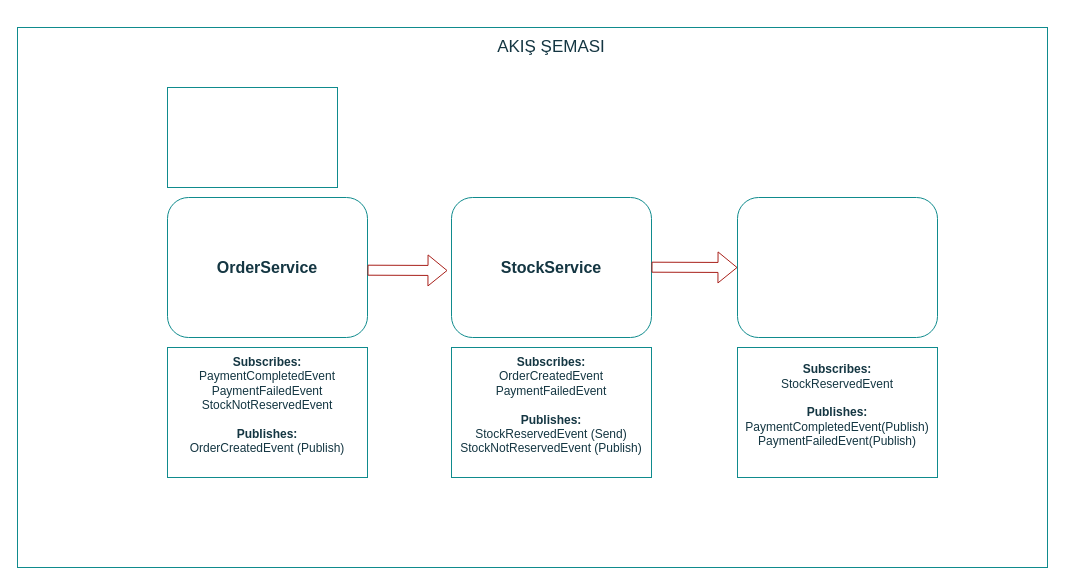
This 1065x585 diagram has some shape labels left out. The box of each missing label's shape, as (x1, y1, x2, y2) in pixels:
OrderStatus : 1 - Suspend 2 - Completed 3 - Fail: (166, 86, 338, 188)
PaymentService: (736, 196, 938, 338)
